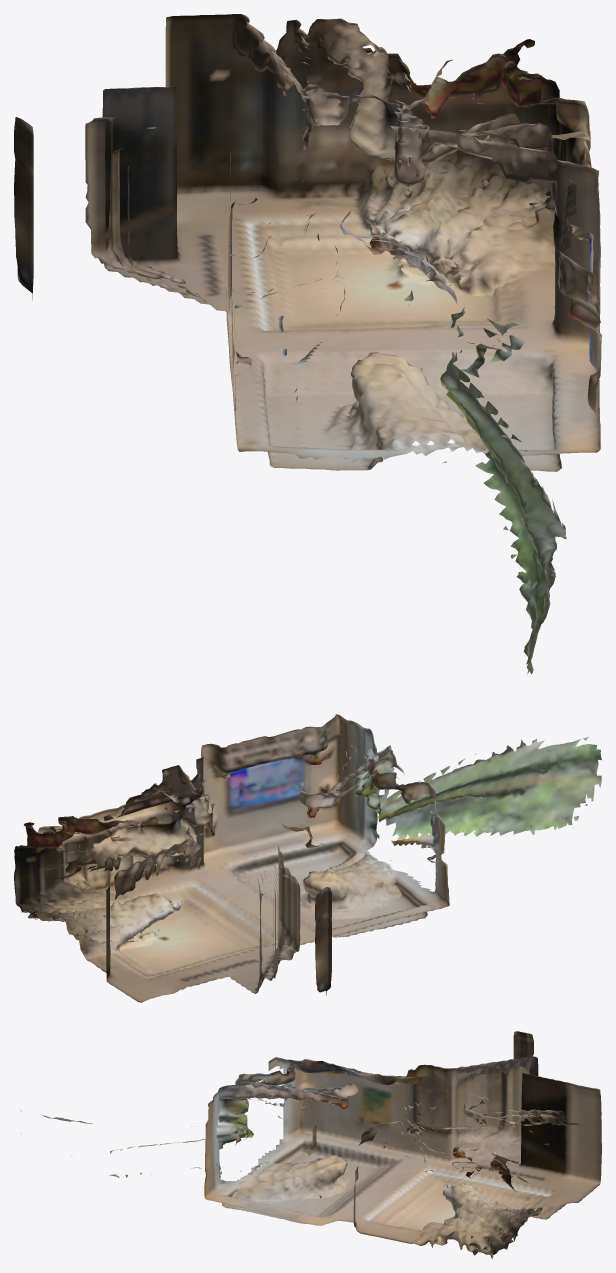
The model's file is 0-world.glb.
3 renders of one model, top to bottom at view 1: azimuth 30°, elevation 25°; view 2: azimuth 150°, elevation 25°; view 3: azimuth 270°, elevation 25°, orthographic. The views are drawn at different scales.
Parts seen in each view (by area): view 1: world; view 2: world; view 3: world.
Part boxes in pixels (left/top/right/bottom): world: left=14, top=14, right=601, bottom=674; world: left=14, top=714, right=601, bottom=1002; world: left=20, top=1031, right=601, bottom=1258.
Bounding box in the file's own units: 4.92 × 2.23 × 9.01.
